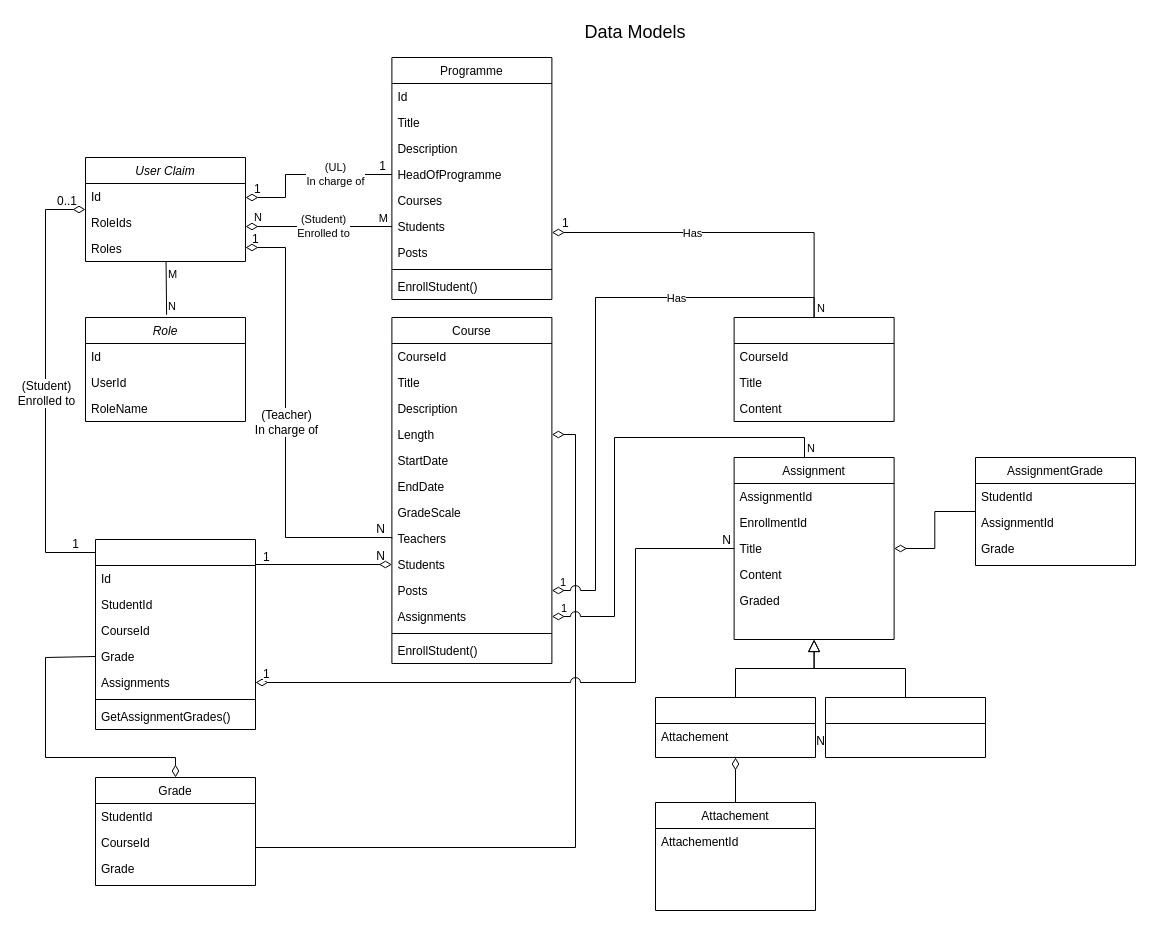
Some shapes in this 1153 by 928 pixel diagram are drawn without their labels. The shapes that lost their labels are listed below. From the top down, each one's box as (x1, y1, x2, y2) in pixels, then its label:
(733, 316, 894, 422): Post
(94, 538, 256, 730): Enrollment?
(654, 696, 816, 758): HandIn
(824, 696, 986, 758): Exam
